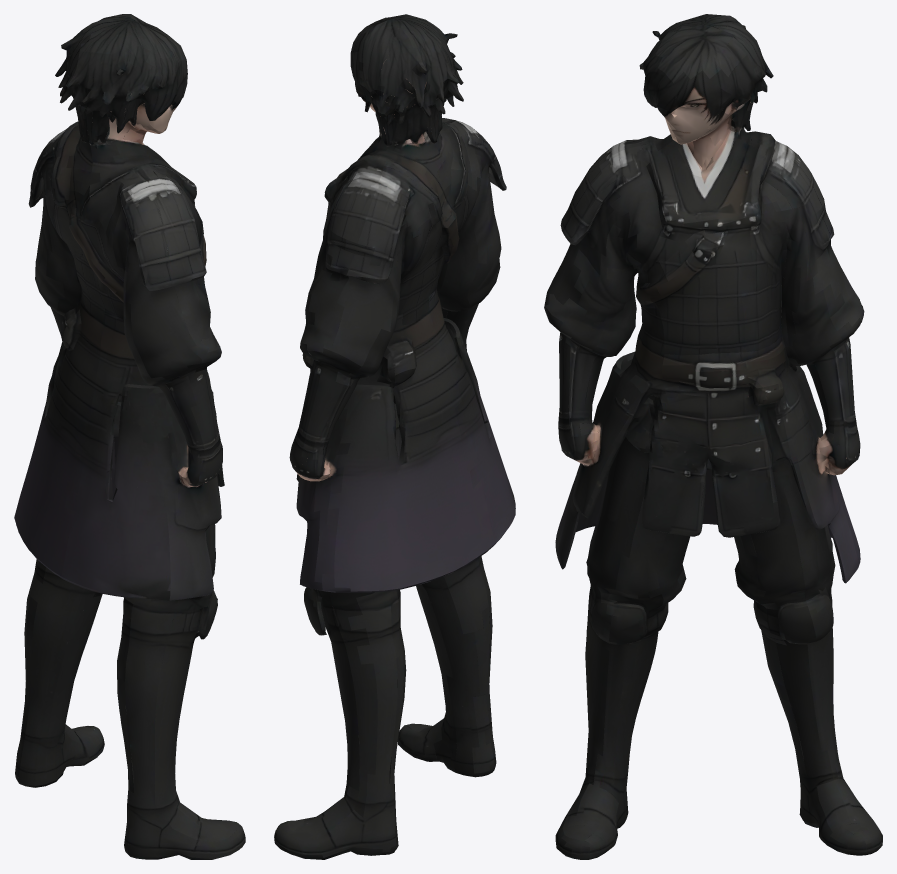
The model's file is shadow_knight.glb.
3 renders of one model, left to right at view 1: azimuth 30°, elevation 25°; view 2: azimuth 150°, elevation 25°; view 3: azimuth 270°, elevation 25°, orthographic. The views are drawn at different scales.
Parts seen in each view (by area): view 1: tripo_node_a5f47ac4-3375-49be-b9b6-e3439ef19646; view 2: tripo_node_a5f47ac4-3375-49be-b9b6-e3439ef19646; view 3: tripo_node_a5f47ac4-3375-49be-b9b6-e3439ef19646.
Part boxes in pixels (x1,y1,x2,y2): tripo_node_a5f47ac4-3375-49be-b9b6-e3439ef19646: [14, 14, 245, 859]; tripo_node_a5f47ac4-3375-49be-b9b6-e3439ef19646: [274, 14, 515, 859]; tripo_node_a5f47ac4-3375-49be-b9b6-e3439ef19646: [544, 14, 882, 859].
Bounding box in the file's own units: 0.2047 × 0.9955 × 0.3755.
Materials: 1 (1 with a texture image).
